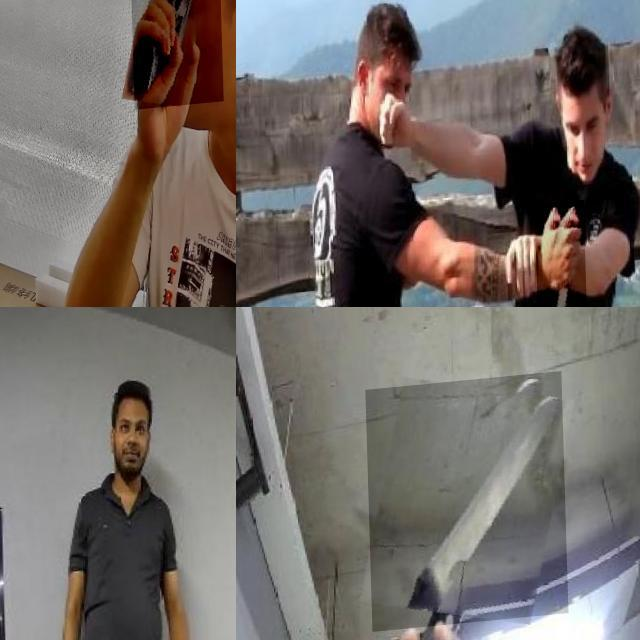-: (363, 382, 565, 639), (532, 210, 586, 307)
gun-knife-thesis - v11 Yolov5 augmented: (127, 0, 221, 129)
